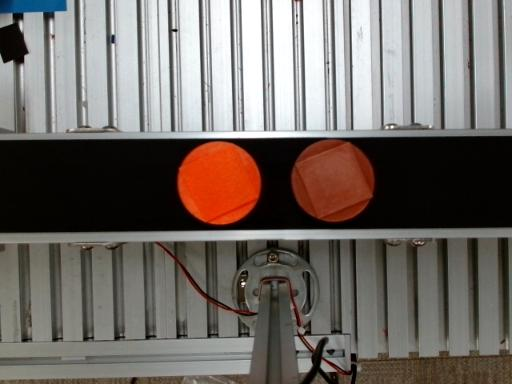Square: (178, 143, 259, 222), (295, 142, 373, 219)
